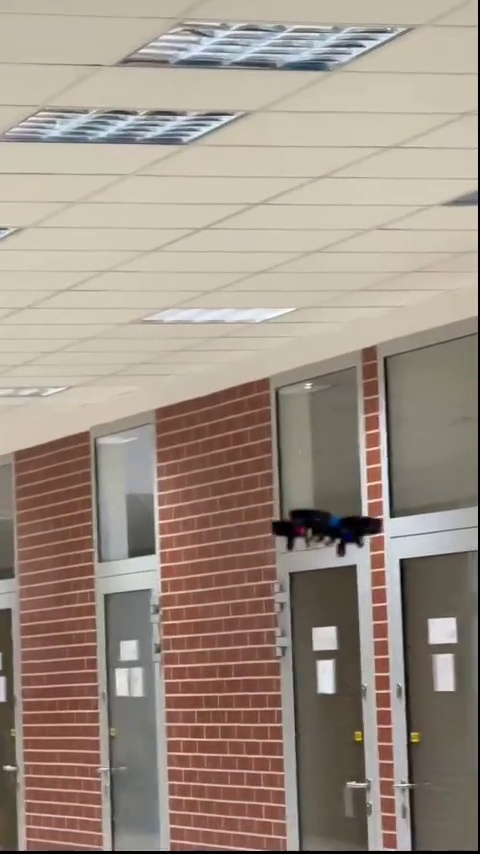drone: (266, 507, 385, 560)
